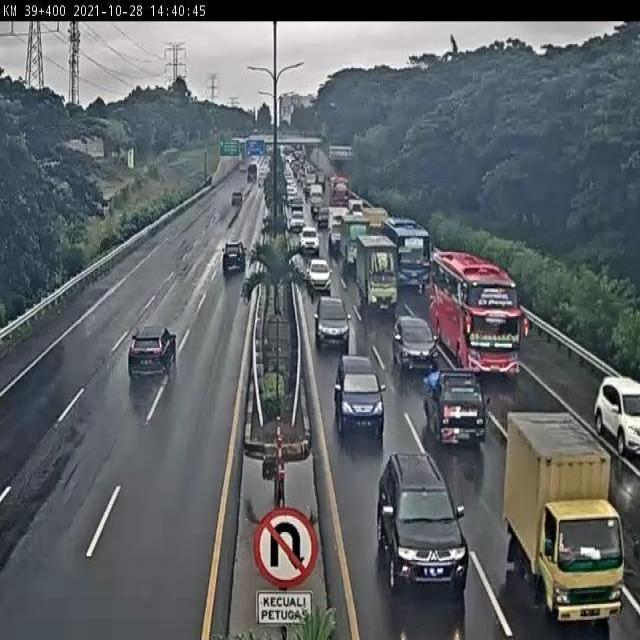bus-l-: (430, 249, 522, 380), (382, 218, 431, 290)
car: (378, 453, 465, 587), (423, 365, 489, 448), (334, 355, 385, 433), (393, 314, 439, 374), (315, 295, 352, 348), (306, 256, 333, 292), (220, 237, 247, 272)
mid truck: (127, 324, 180, 380)
truck-m-: (356, 237, 399, 315)
truck-s-: (505, 409, 626, 622)
